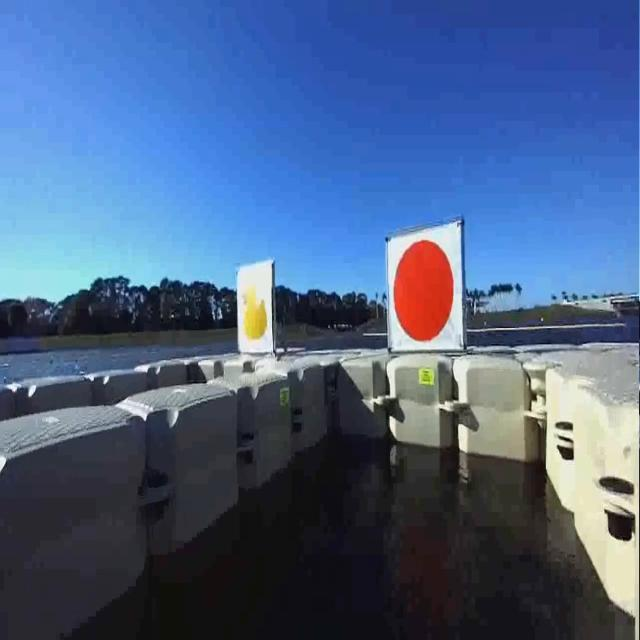red-dot: (384, 230, 456, 351)
yellow-duck: (236, 273, 271, 353)
